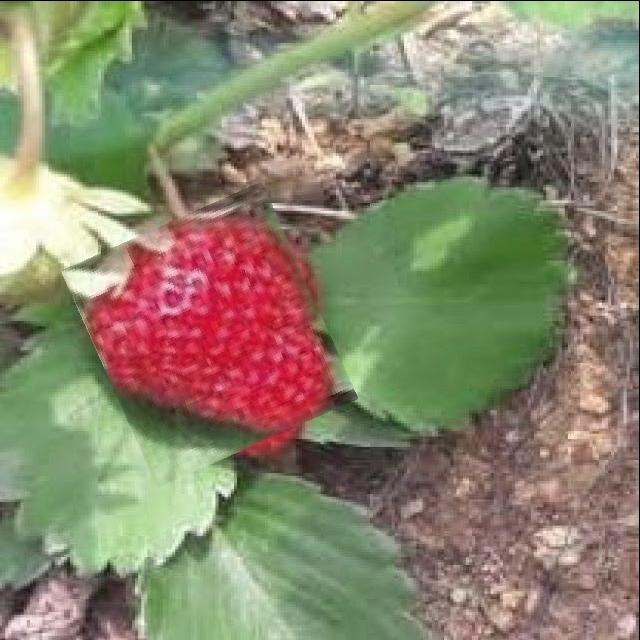strawberry: (80, 198, 338, 470)
